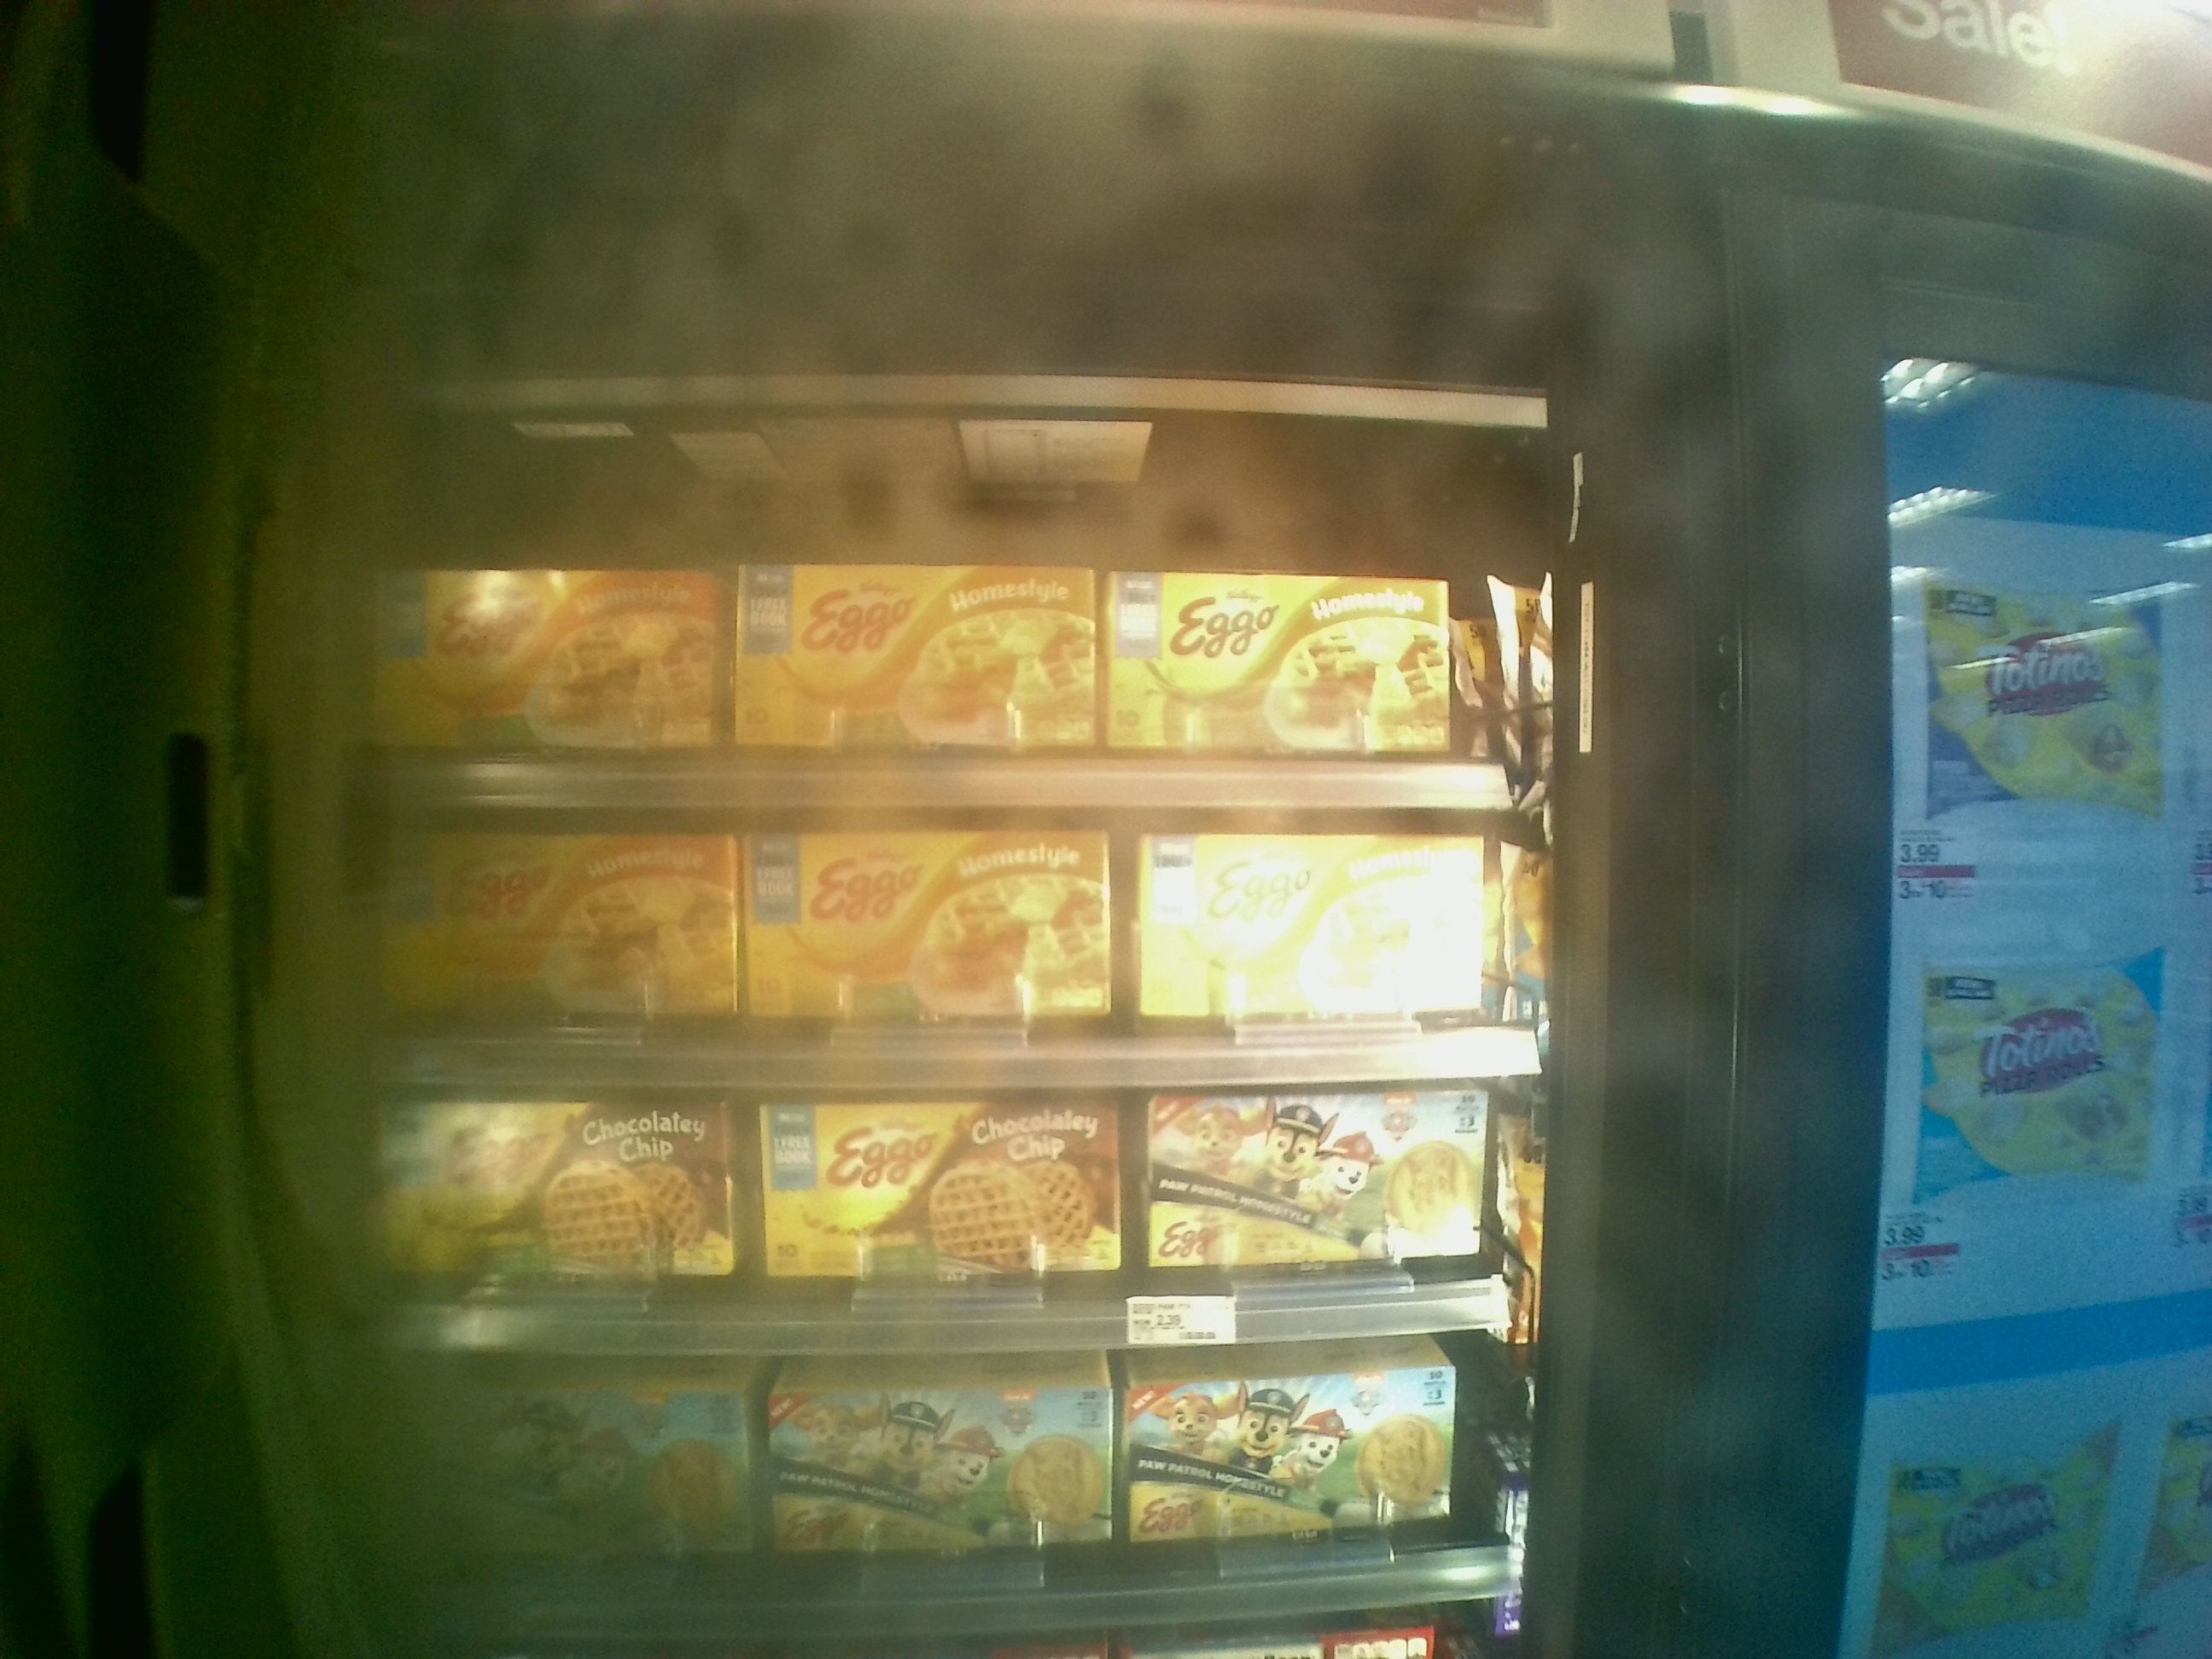frozen-food-shelf: (354, 385, 1538, 819)
